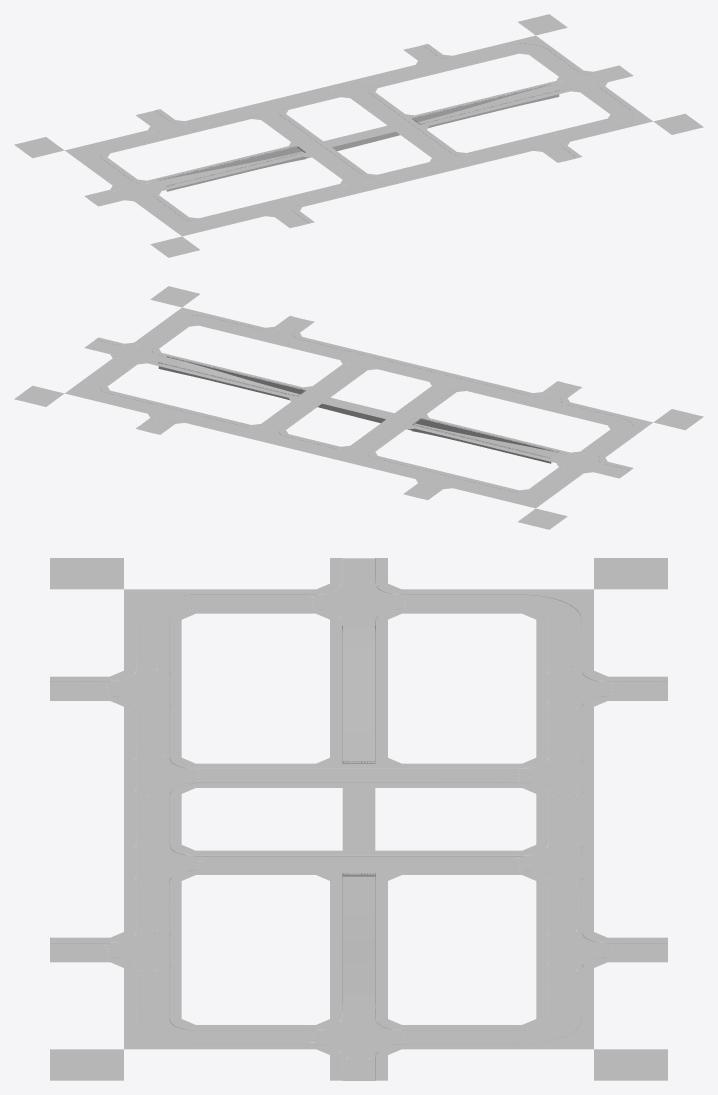
Rendered from Double-Block-10.fbx.
The picture shows the model from 3 angles, top to bottom: view 1: azimuth 30°, elevation 25°; view 2: azimuth 150°, elevation 25°; view 3: azimuth 270°, elevation 25°; orthographic projection. The views are drawn at different scales.
Parts seen in each view (by area): view 1: Double-Block-10, Double-Block-10-Sidewalk; view 2: Double-Block-10, Double-Block-10-Sidewalk; view 3: Double-Block-10, Double-Block-10-Sidewalk.
Boxes of the visible parts, x1,y1,x2,y2 form: Double-Block-10: (14,14,703,257); Double-Block-10-Sidewalk: (65,35,652,236); Double-Block-10: (14,286,703,529); Double-Block-10-Sidewalk: (65,307,652,508); Double-Block-10: (50,558,667,1080); Double-Block-10-Sidewalk: (50,558,667,1080).
Size of what is drawn, in the model's own units: 60000 by 787 by 30000.
